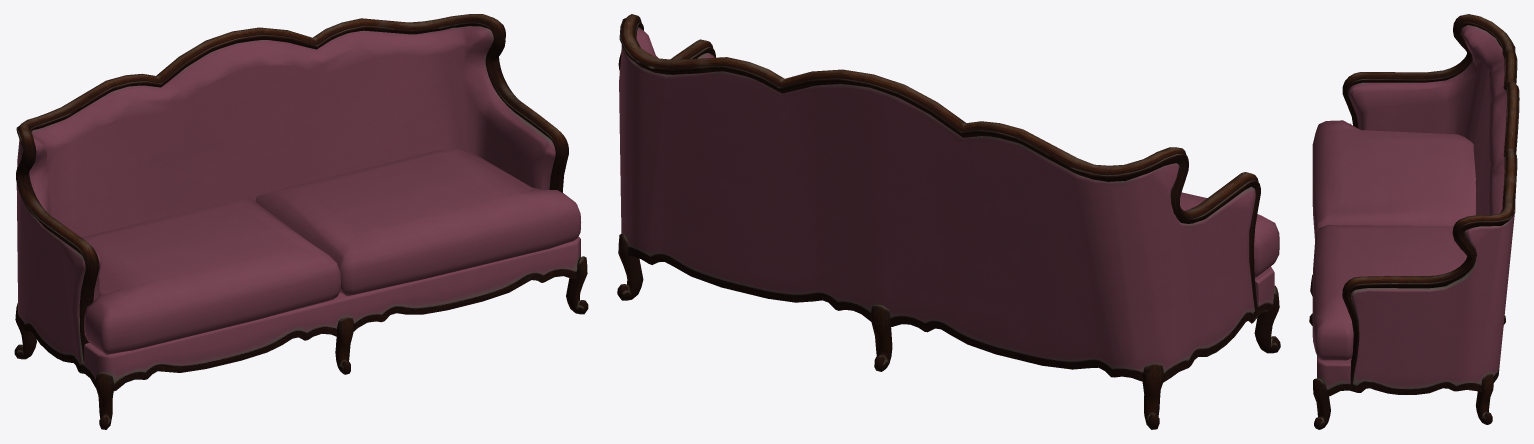
The model's file is linden_plum-corduroy.glb.
The picture shows the model from 3 angles, left to right: view 1: azimuth 30°, elevation 25°; view 2: azimuth 150°, elevation 25°; view 3: azimuth 270°, elevation 25°; orthographic projection. The views are drawn at different scales.
Parts seen in each view (by area): view 1: Sofa_01; view 2: Sofa_01; view 3: Sofa_01.
Boxes of the visible parts, left/top/right/bottom form: Sofa_01: left=14, top=14, right=588, bottom=429; Sofa_01: left=617, top=14, right=1280, bottom=429; Sofa_01: left=1309, top=14, right=1519, bottom=429.
Size of the model in its own units: 1.57 by 0.7965 by 0.658.
Materials: 1 (1 with a texture image).
